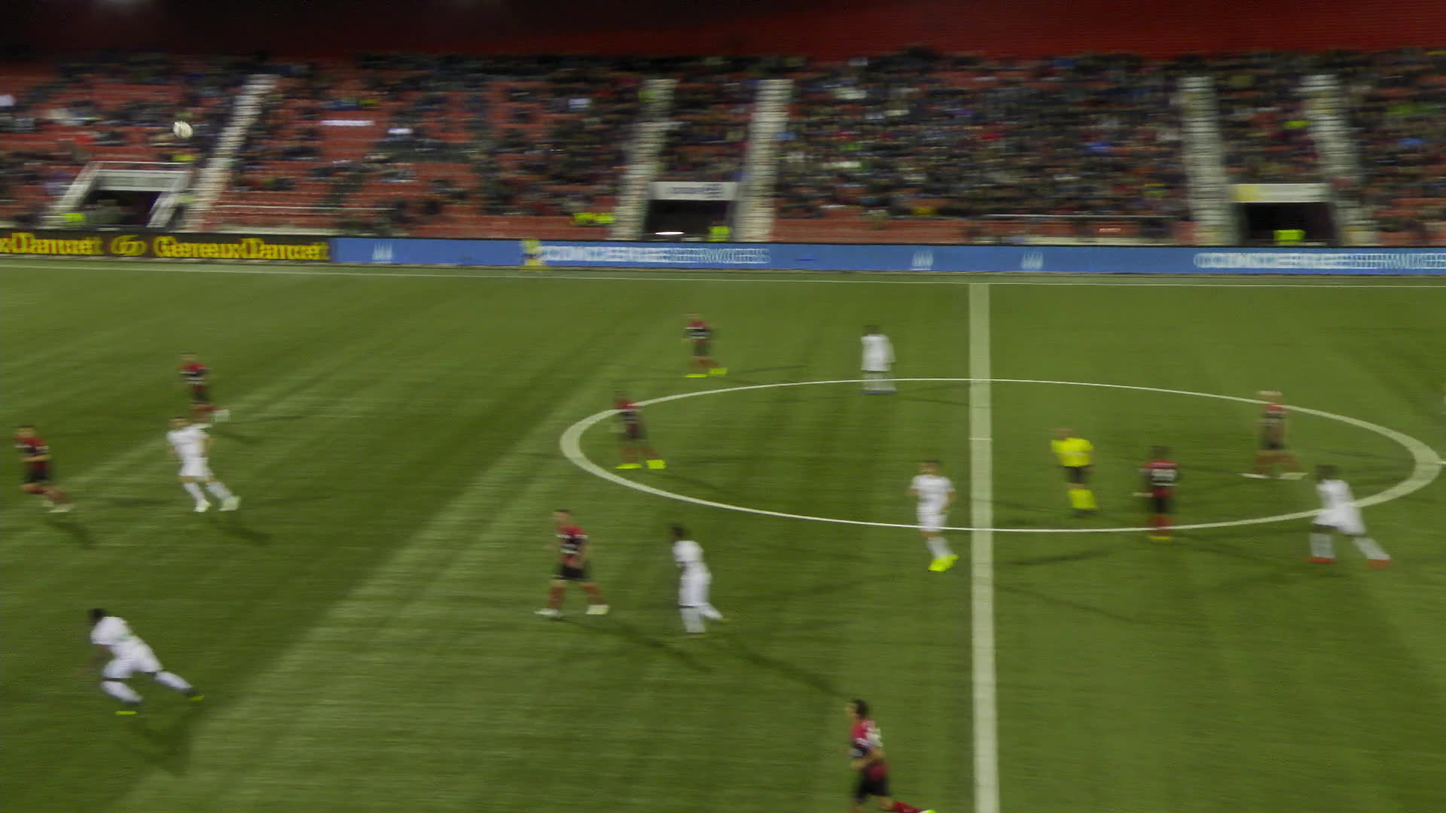ball: (181, 129, 195, 142)
player: (63, 605, 172, 712), (827, 696, 914, 812), (1270, 461, 1355, 567), (511, 504, 581, 615), (639, 525, 707, 634), (143, 417, 216, 514), (1207, 385, 1271, 477), (881, 465, 937, 570), (1386, 379, 1445, 468), (1103, 439, 1150, 541), (581, 392, 642, 467), (150, 349, 204, 426), (3, 424, 44, 514), (654, 315, 697, 378), (831, 324, 865, 395)
referee: (1023, 420, 1065, 514), (496, 233, 517, 274)
